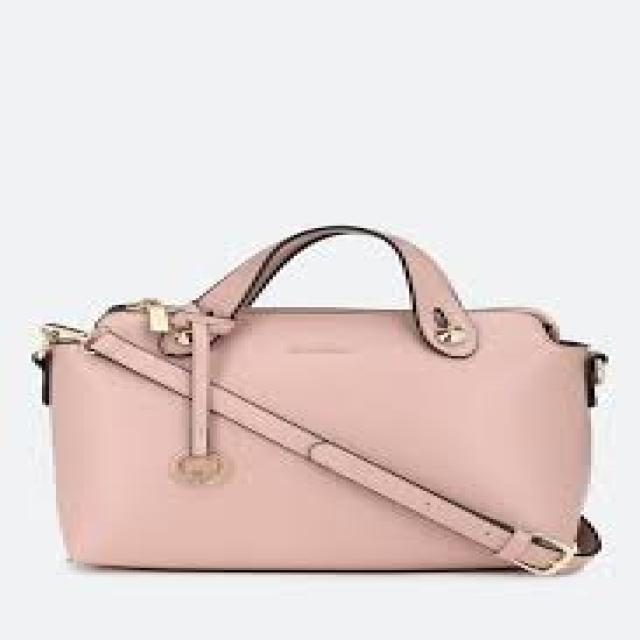handbag: (28, 223, 609, 575)
